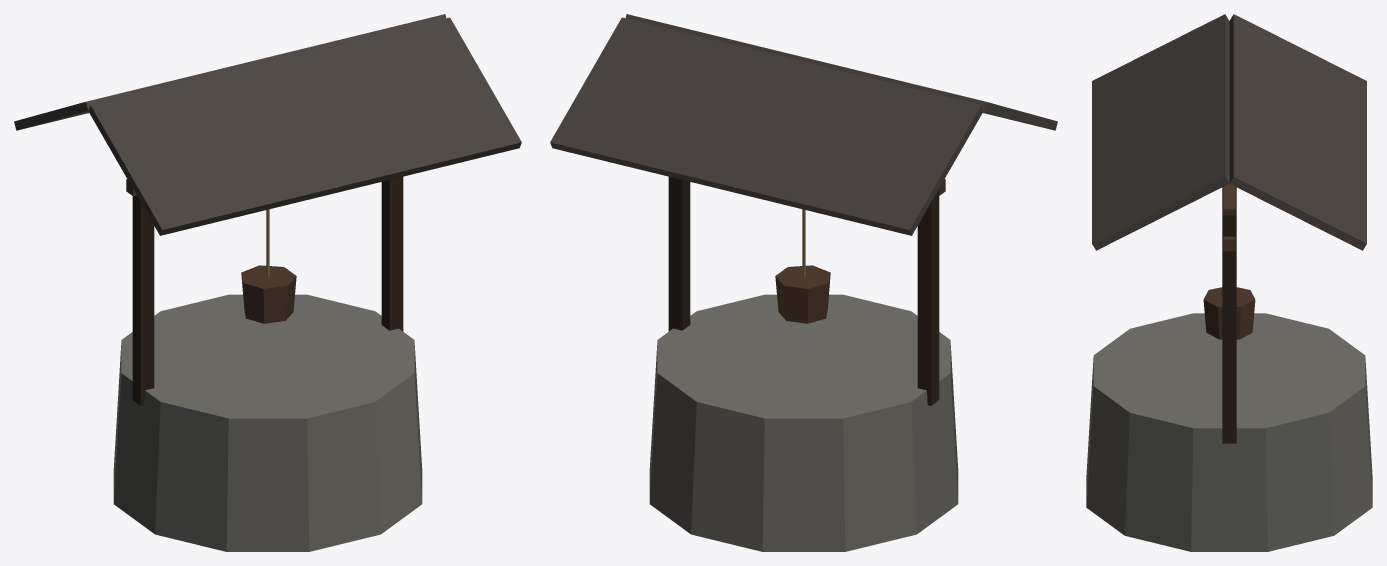
Rendered from walk_any_well.glb.
The picture shows the model from 3 angles, left to right: view 1: azimuth 30°, elevation 25°; view 2: azimuth 150°, elevation 25°; view 3: azimuth 270°, elevation 25°; orthographic projection. The views are drawn at different scales.
Visible parts, largest first — view 1: walk_any_well; view 2: walk_any_well; view 3: walk_any_well.
Boxes of the visible parts, x1,y1,x2,y2 form: walk_any_well: (14,14,521,551); walk_any_well: (550,14,1057,551); walk_any_well: (1086,14,1372,551).
Size of what is drawn, in the model's own units: 2.6 by 2.95 by 1.93.
1 material, 1 textured.
